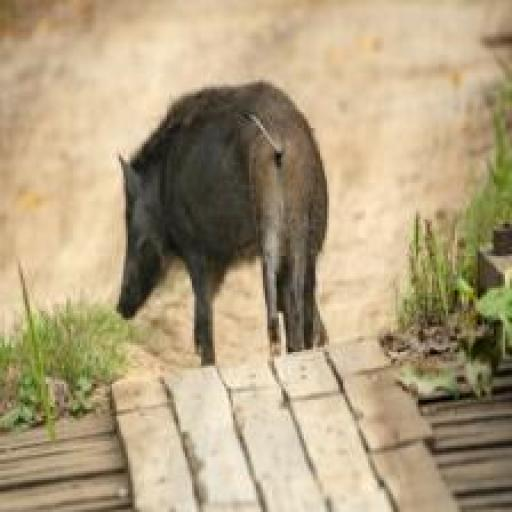Pig: (116, 78, 332, 358)
